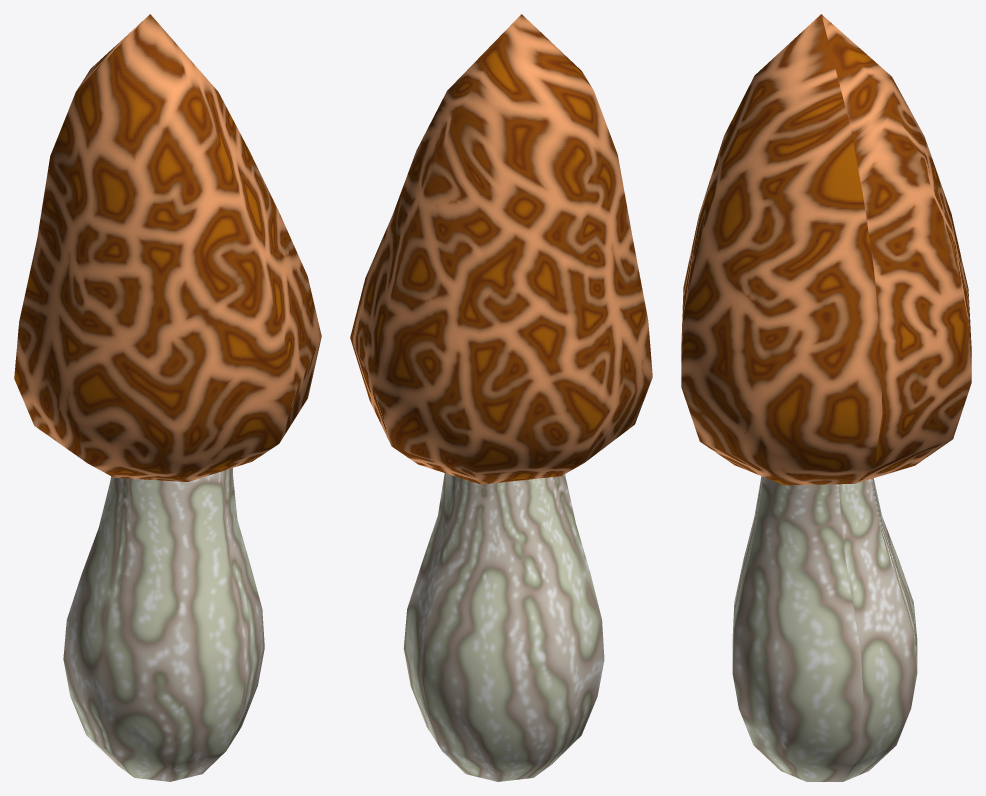
File: morel.obj
3 views of the same model, side by side, from view 1: azimuth 30°, elevation 25°; view 2: azimuth 150°, elevation 25°; view 3: azimuth 270°, elevation 25° (orthographic).
Parts seen in each view (by area): view 1: morel; view 2: morel; view 3: morel.
Part boxes in pixels (x1=…): morel: x1=14, y1=14, x2=321, y2=781; morel: x1=350, y1=14, x2=652, y2=781; morel: x1=681, y1=14, x2=971, y2=781.
Bounding box in the file's own units: 0.3879 × 1.13 × 0.3964.
